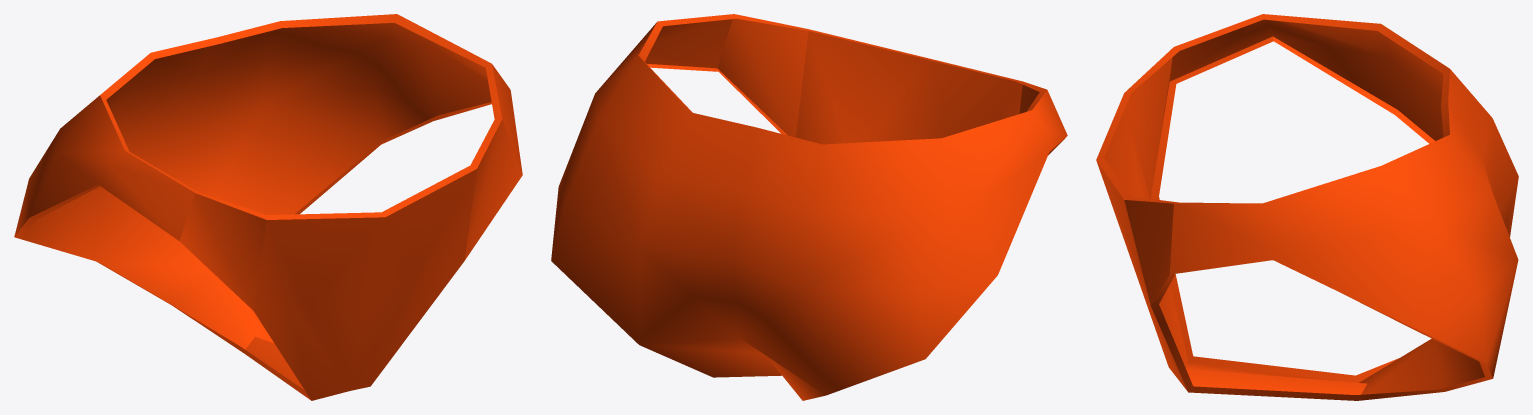
File: Bikini03.001.fbx
3 views of the same model, side by side, from view 1: azimuth 30°, elevation 25°; view 2: azimuth 150°, elevation 25°; view 3: azimuth 270°, elevation 25° (orthographic). The views are drawn at different scales.
Parts seen in each view (by area): view 1: Bikini03.001; view 2: Bikini03.001; view 3: Bikini03.001.
Part boxes in pixels (x1,y1,x2,y2): Bikini03.001: (14,14,522,400); Bikini03.001: (551,14,1067,400); Bikini03.001: (1096,14,1518,400).
Bounding box in the file's own units: 32.81 × 21.53 × 27.31.
